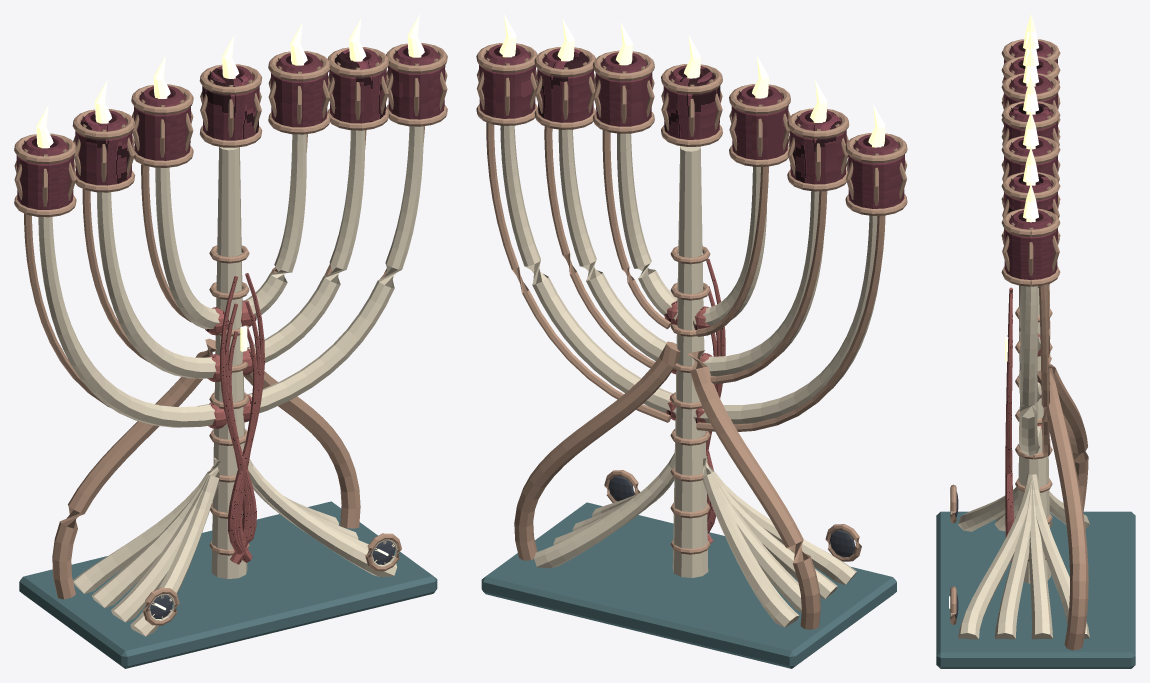
File: intake_seven_lamps.glb
3 renders of one model, left to right at view 1: azimuth 30°, elevation 25°; view 2: azimuth 150°, elevation 25°; view 3: azimuth 270°, elevation 25°, orthographic. The views are drawn at different scales.
Visible parts, largest first — view 1: intake_seven_lamps_warm, intake_seven_lamps_worn, intake_seven_lamps_petrol, intake_seven_lamps_bruised, intake_seven_lamps_suture, intake_seven_lamps_sick, intake_seven_lamps_deep; view 2: intake_seven_lamps_warm, intake_seven_lamps_worn, intake_seven_lamps_petrol, intake_seven_lamps_bruised, intake_seven_lamps_sick, intake_seven_lamps_suture, intake_seven_lamps_deep; view 3: intake_seven_lamps_petrol, intake_seven_lamps_worn, intake_seven_lamps_warm, intake_seven_lamps_bruised, intake_seven_lamps_sick, intake_seven_lamps_suture.
Part boxes in pixels (bbox=[...]): intake_seven_lamps_warm: bbox=[38, 126, 423, 636]; intake_seven_lamps_worn: bbox=[14, 43, 447, 625]; intake_seven_lamps_petrol: bbox=[19, 501, 437, 668]; intake_seven_lamps_bruised: bbox=[16, 44, 445, 209]; intake_seven_lamps_suture: bbox=[205, 273, 264, 564]; intake_seven_lamps_sick: bbox=[36, 14, 424, 610]; intake_seven_lamps_deep: bbox=[148, 540, 395, 618]; intake_seven_lamps_warm: bbox=[500, 125, 879, 627]; intake_seven_lamps_worn: bbox=[476, 43, 907, 629]; intake_seven_lamps_petrol: bbox=[481, 502, 896, 668]; intake_seven_lamps_bruised: bbox=[479, 44, 904, 208]; intake_seven_lamps_sick: bbox=[499, 14, 885, 306]; intake_seven_lamps_suture: bbox=[664, 259, 725, 543]; intake_seven_lamps_deep: bbox=[608, 476, 855, 557]; intake_seven_lamps_petrol: bbox=[936, 511, 1135, 668]; intake_seven_lamps_worn: bbox=[950, 39, 1088, 650]; intake_seven_lamps_warm: bbox=[950, 285, 1089, 639]; intake_seven_lamps_bruised: bbox=[1004, 40, 1057, 279]; intake_seven_lamps_sick: bbox=[949, 14, 1038, 608]; intake_seven_lamps_suture: bbox=[1005, 287, 1041, 561].
Size of the model in its own units: 6.56 by 8.13 by 2.8.
Materials: 7 (2 with a texture image).
